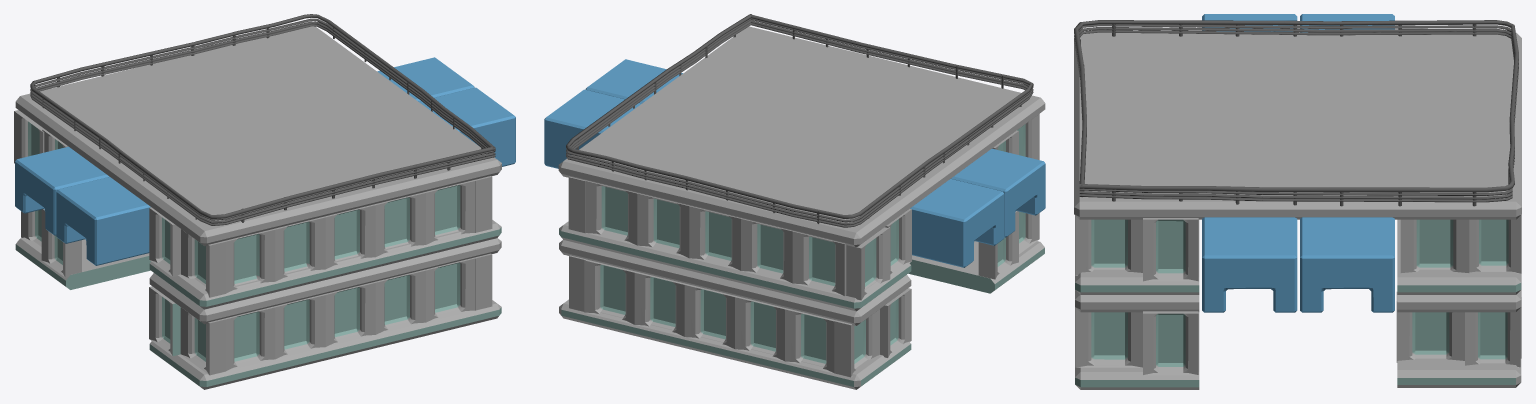
File: Apartment build with a hole.fbx
3 views of the same model, side by side, from view 1: azimuth 30°, elevation 25°; view 2: azimuth 150°, elevation 25°; view 3: azimuth 270°, elevation 25° (orthographic). The views are drawn at different scales.
Visible parts, largest first — view 1: polySurface4294; view 2: polySurface4294; view 3: polySurface4294.
Part boxes in pixels (x1,y1,x2,y2): polySurface4294: (14,14,515,389); polySurface4294: (544,14,1045,389); polySurface4294: (1074,14,1521,389).
Size of the model in its own units: 415 by 162 by 323.
